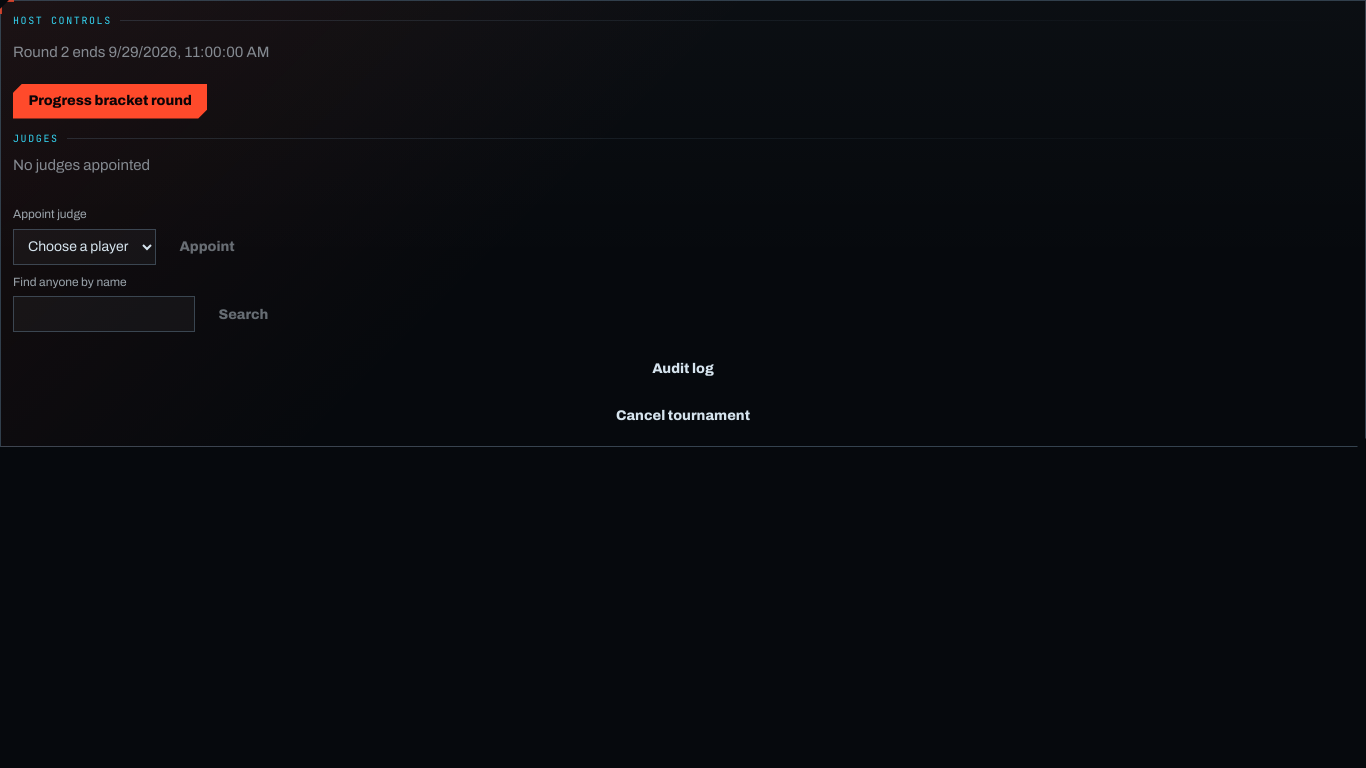
Test: audit log › says the list is capped only when it is full, and bounds its height
The image size is (1366, 768).
Click the button "Audit log".
click(683, 370)  # box left=13, top=352, right=1353, bottom=387
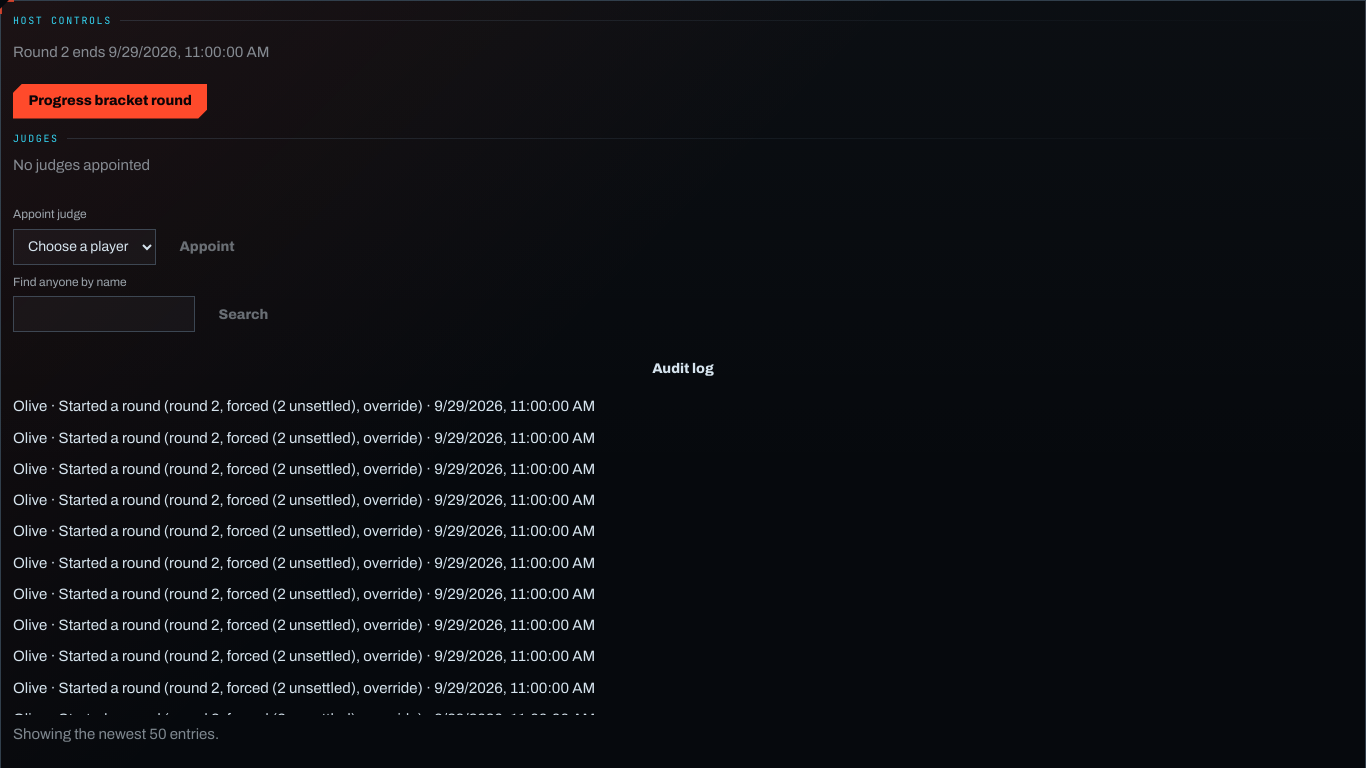
Expected: the text "Showing the newest 50 entries." is shown, left=13, top=726, right=219, bottom=742
